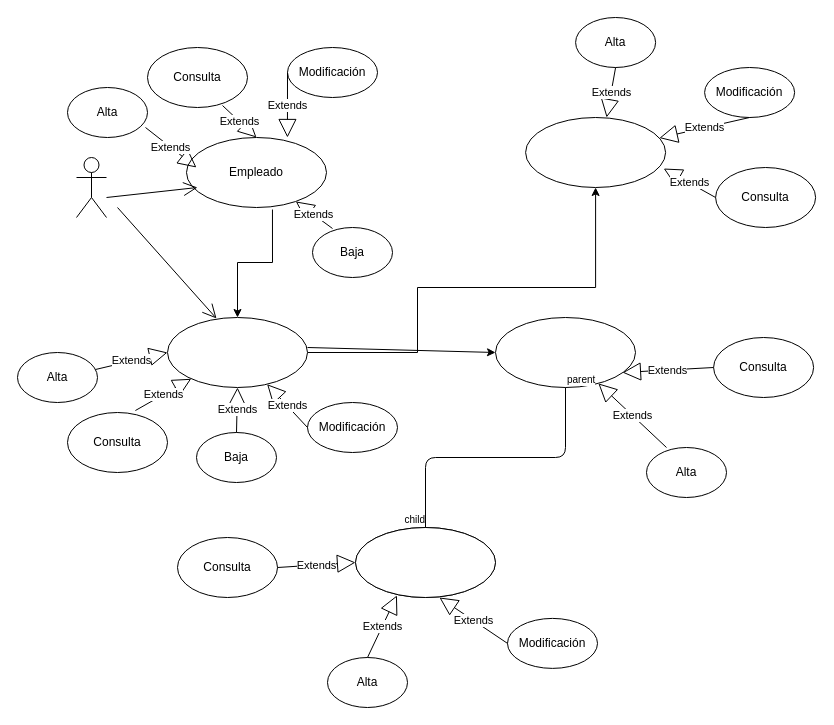
Some shapes in this 834 by 725 pixel diagram are drawn without their labels. Each missing label, with the centre of its shape:
Cliente: point (237, 352)
Coche alquiler: point (595, 152)
Coche venta: point (565, 352)
Personal: point (91, 187)
Taller: point (425, 562)
